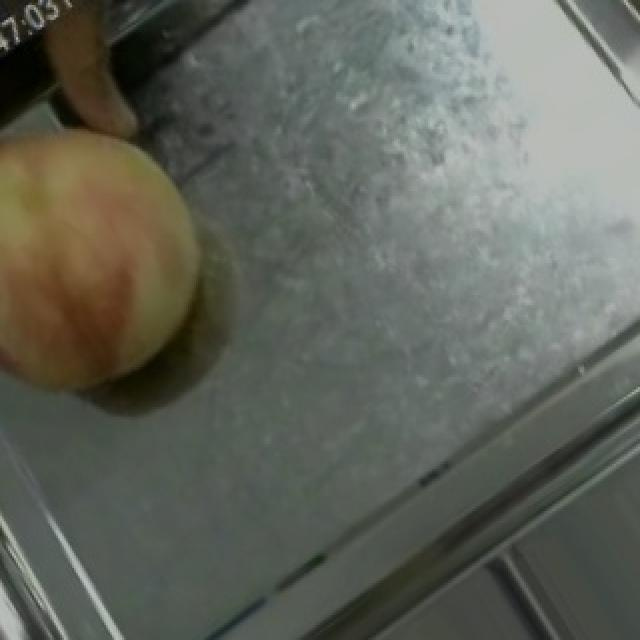Fruit: (0, 64, 248, 394)
